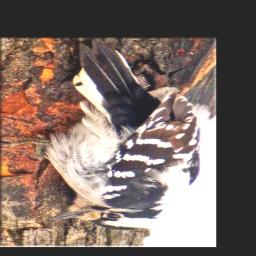Woodpecker: (3, 38, 212, 234)
